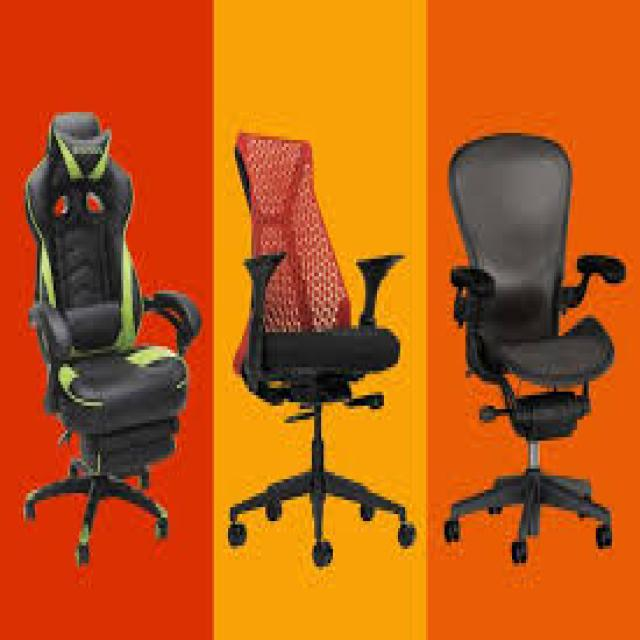chair: (216, 96, 422, 604), (429, 92, 635, 591), (7, 101, 211, 574)
